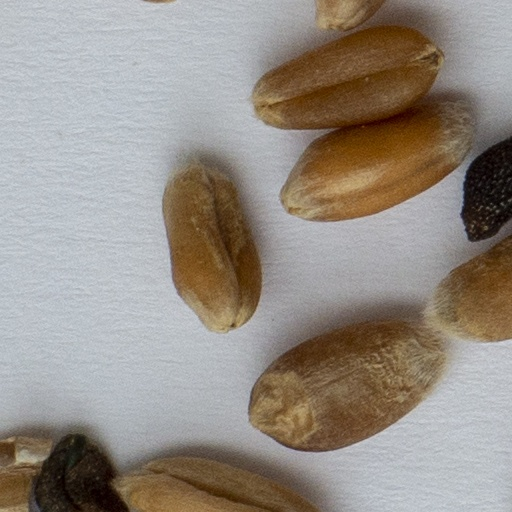Convolvulus-poly: (458, 133, 511, 245)
